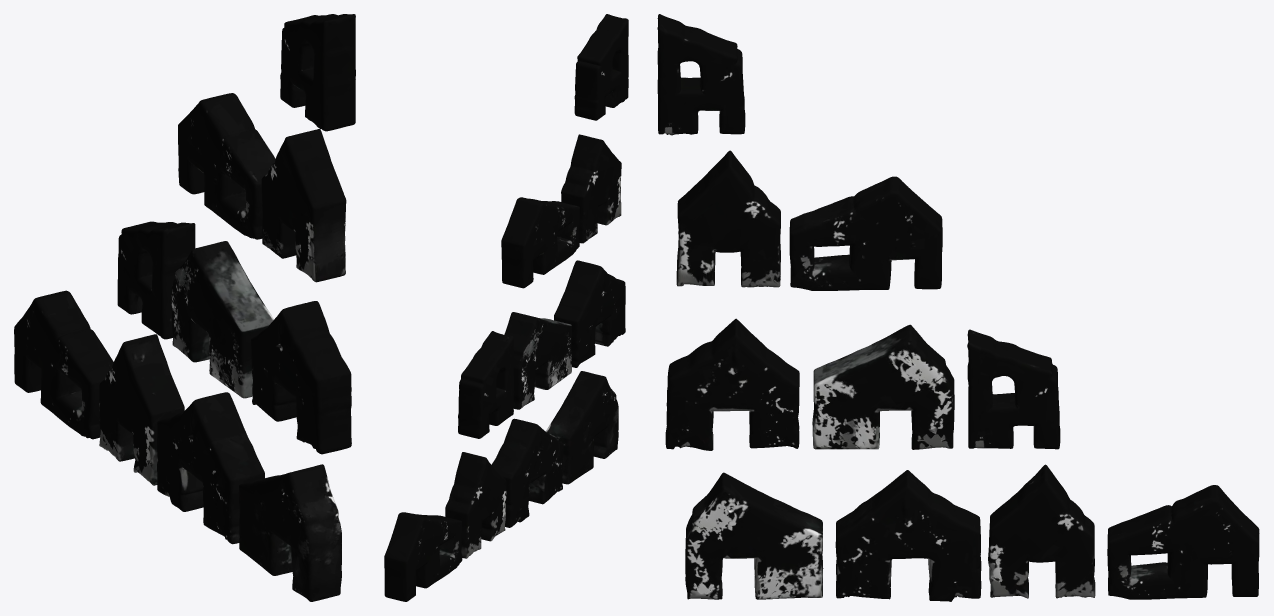
The model's file is gaw-houses-split.glb.
3 renders of one model, left to right at view 1: azimuth 30°, elevation 25°; view 2: azimuth 150°, elevation 25°; view 3: azimuth 270°, elevation 25°, orthographic. The views are drawn at different scales.
Visible parts, largest first — view 1: house_8, house_6, house_5, house_7, house_0, house_1, house_4, house_3, house_9, house_2; view 2: house_4, house_1, house_6, house_5, house_8, house_2, house_9, house_7, house_0, house_3; view 3: house_5, house_7, house_4, house_1, house_6, house_8, house_0, house_3, house_2, house_9.
Boxes of the visible parts, x1,y1,x2,y2 form: house_8: [251, 301, 351, 454]; house_6: [239, 464, 341, 601]; house_5: [157, 392, 264, 544]; house_7: [171, 241, 273, 398]; house_0: [261, 129, 346, 282]; house_1: [14, 290, 113, 439]; house_4: [178, 93, 275, 239]; house_3: [99, 334, 184, 485]; house_9: [280, 14, 355, 131]; house_2: [117, 221, 195, 339]; house_4: [501, 197, 579, 288]; house_1: [384, 512, 462, 601]; house_6: [546, 371, 618, 484]; house_5: [491, 418, 563, 527]; house_8: [554, 260, 625, 367]; house_2: [458, 331, 513, 438]; house_9: [574, 14, 628, 120]; house_7: [504, 312, 571, 409]; house_0: [561, 134, 621, 243]; house_3: [445, 452, 506, 558]; house_5: [835, 470, 981, 601]; house_7: [812, 324, 954, 449]; house_4: [789, 176, 942, 290]; house_1: [1107, 485, 1259, 599]; house_6: [685, 472, 823, 599]; house_8: [665, 318, 799, 450]; house_0: [676, 150, 780, 287]; house_3: [988, 464, 1095, 598]; house_2: [967, 329, 1060, 449]; house_9: [657, 14, 745, 135].
Size of the model in its own units: 0.0875 by 0.9999 by 0.9509.
Materials: 1 (1 with a texture image).
